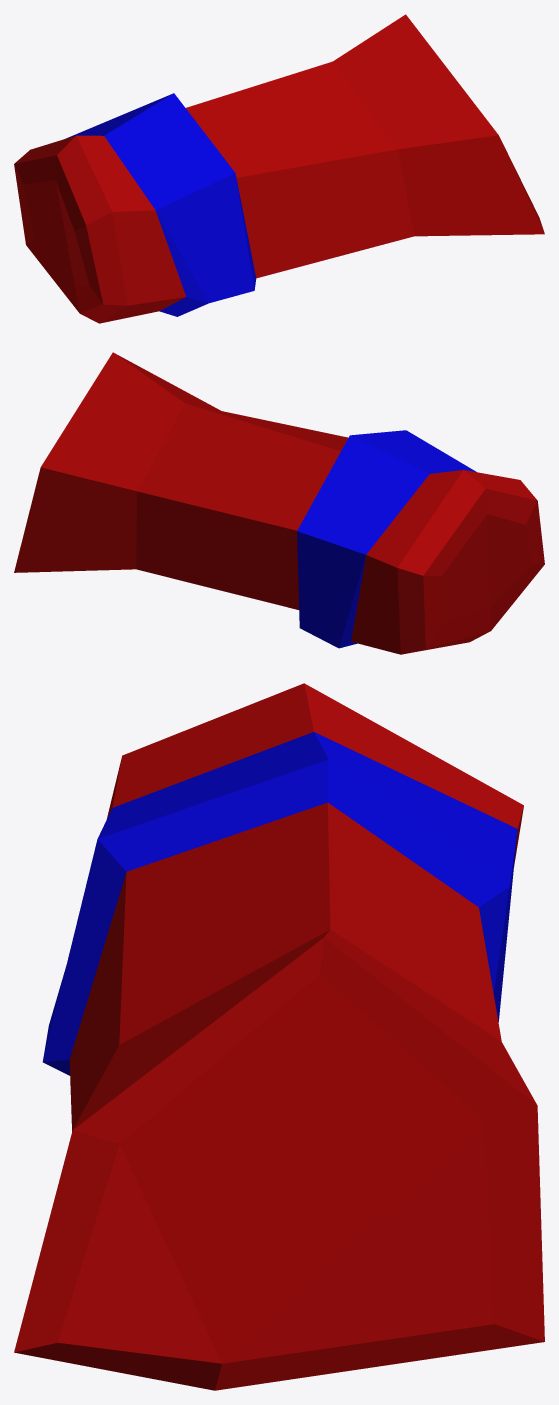
Rendered from Chr_ArmUpperRight_Male_Static_15.fbx.
3 renders of one model, top to bottom at view 1: azimuth 30°, elevation 25°; view 2: azimuth 150°, elevation 25°; view 3: azimuth 270°, elevation 25°, orthographic. The views are drawn at different scales.
Visible parts, largest first — view 1: Chr_ArmUpperRight_Male_15; view 2: Chr_ArmUpperRight_Male_15; view 3: Chr_ArmUpperRight_Male_15.
Boxes of the visible parts, <box> form: Chr_ArmUpperRight_Male_15: <box>14,14,544,323</box>; Chr_ArmUpperRight_Male_15: <box>14,352,544,654</box>; Chr_ArmUpperRight_Male_15: <box>14,683,544,1390</box>.
Bounding box in the file's own units: 32.57 × 16.41 × 17.36.
